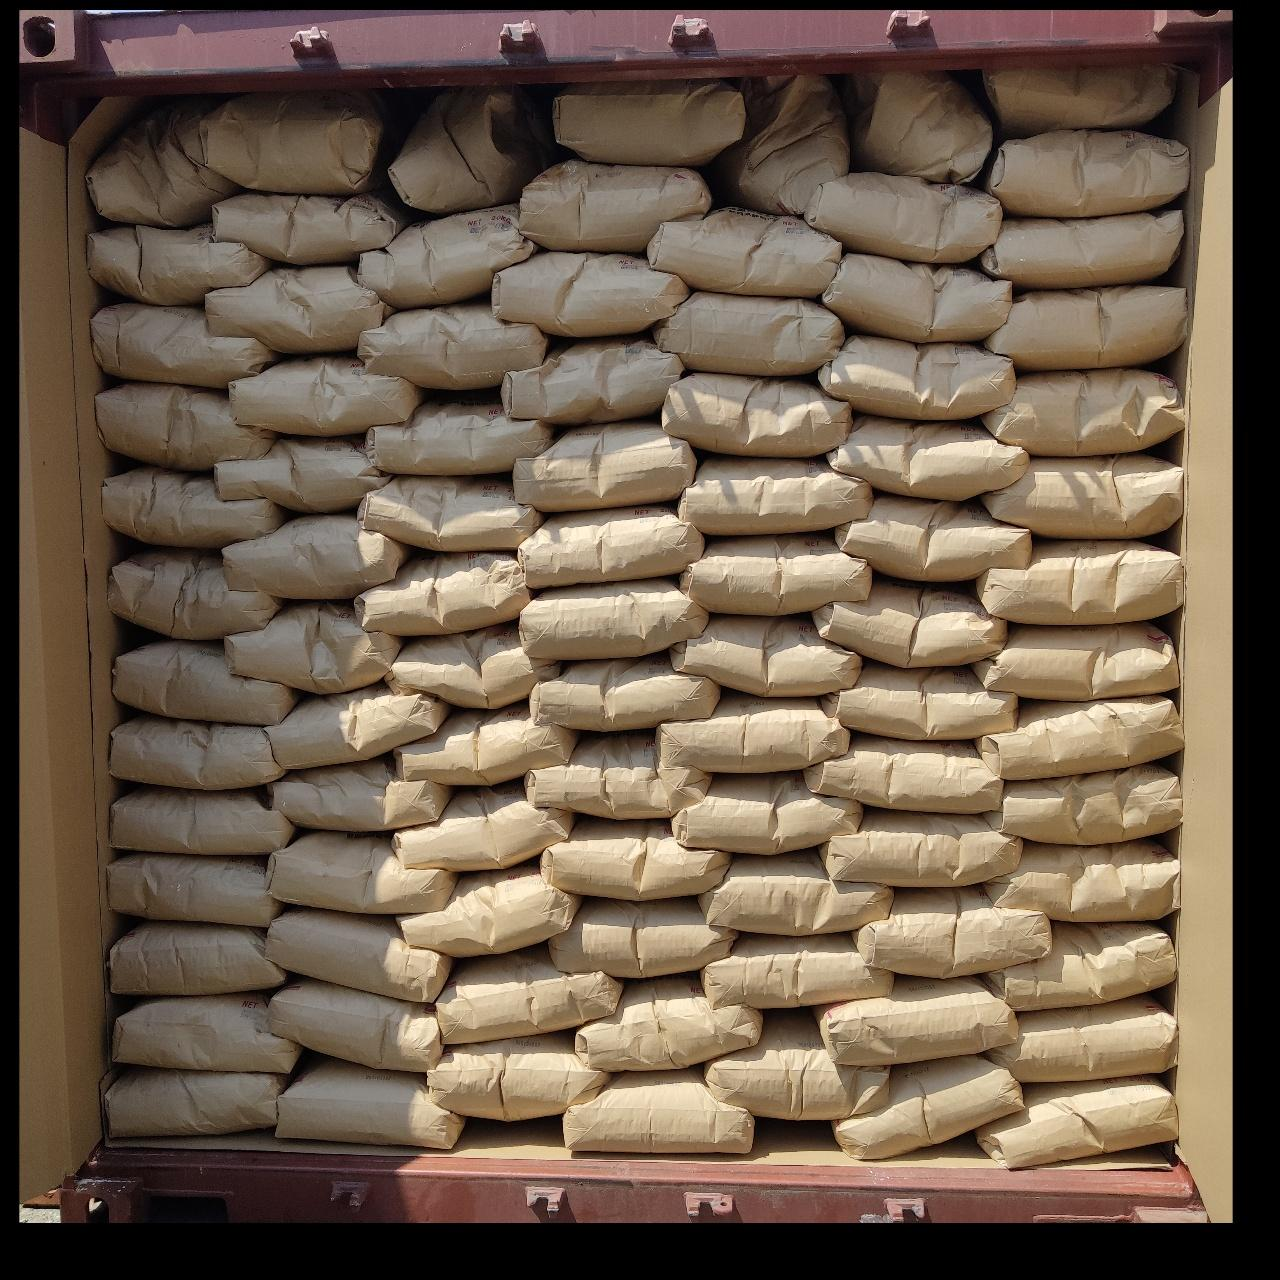sack: (177, 93, 386, 195), (392, 88, 560, 212), (706, 75, 847, 215), (86, 101, 238, 229), (708, 1012, 886, 1118), (835, 1056, 1022, 1156), (360, 206, 535, 308), (804, 173, 1002, 263), (976, 1078, 1175, 1166), (520, 162, 710, 252), (400, 862, 580, 956), (986, 286, 1189, 370), (275, 1056, 462, 1148), (976, 540, 1182, 622), (818, 976, 1014, 1062), (986, 132, 1189, 215), (438, 946, 618, 1039), (822, 254, 1010, 342), (982, 370, 1182, 454), (578, 976, 758, 1068), (648, 207, 838, 294), (813, 578, 1006, 663), (836, 496, 1030, 580), (268, 908, 452, 998), (846, 68, 990, 182), (982, 454, 1182, 536), (983, 922, 1175, 1008), (978, 696, 1182, 776), (828, 416, 1026, 498), (856, 888, 1046, 974), (515, 420, 694, 510), (358, 302, 546, 388), (983, 54, 1178, 136), (492, 252, 686, 334), (527, 731, 710, 818), (268, 978, 440, 1070), (821, 808, 1022, 886), (702, 850, 890, 934), (554, 80, 742, 164), (96, 382, 274, 470), (502, 336, 685, 422), (206, 266, 392, 350), (818, 336, 1014, 416), (983, 838, 1178, 918), (396, 782, 572, 870), (428, 1032, 606, 1118), (654, 292, 842, 374), (108, 549, 280, 638), (224, 515, 408, 598), (91, 304, 278, 386), (564, 1068, 750, 1150), (988, 996, 1175, 1078), (658, 692, 846, 772), (986, 764, 1182, 842), (229, 602, 399, 692), (672, 772, 862, 852), (978, 212, 1182, 286), (672, 614, 860, 694), (114, 640, 297, 722), (662, 374, 850, 454), (682, 535, 870, 614), (680, 456, 870, 535), (522, 578, 708, 658), (806, 734, 1000, 810), (266, 685, 448, 765), (542, 818, 726, 898), (974, 624, 1176, 696), (822, 662, 1014, 738), (114, 992, 300, 1070), (104, 467, 286, 546), (520, 506, 702, 586), (366, 396, 552, 474), (530, 654, 719, 730), (396, 702, 576, 782), (270, 832, 454, 910), (230, 356, 422, 430), (210, 192, 410, 263), (550, 898, 734, 974), (388, 624, 558, 706), (88, 226, 270, 302), (356, 552, 530, 632), (702, 934, 892, 1006), (268, 756, 450, 830), (360, 476, 540, 550), (216, 436, 388, 510), (113, 714, 282, 788), (105, 855, 280, 926), (110, 922, 284, 994), (113, 787, 294, 855), (104, 1065, 286, 1133)
